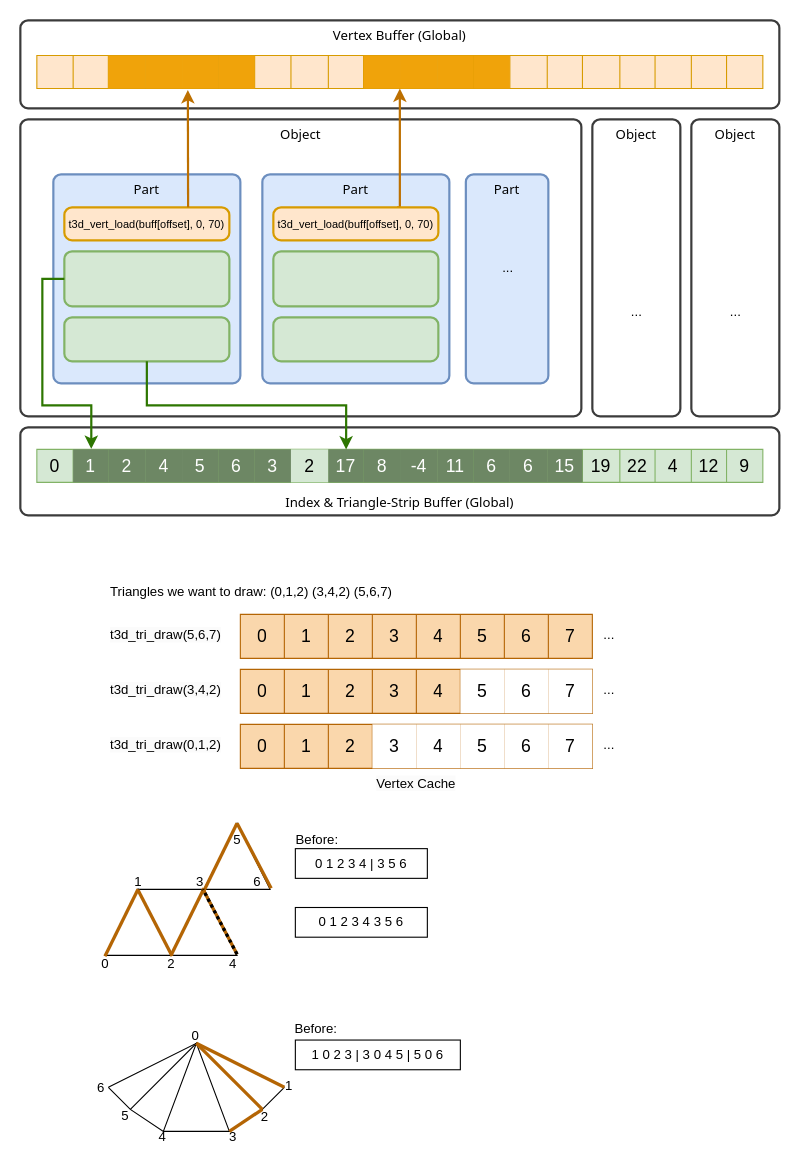
This 799x1172 diagram has some shape labels left out. The shapes that lost their labels are listed below. From the top down, each one's centre as x and y in pixels, then its label:
the point at 146,278: t3d_tri_draw(1,2,4) t3d_tri_draw(5,6,3) ...
the point at 355,278: t3d_tri_draw(0,1,2) t3d_tri_draw(4,5,6) ...
the point at 146,339: t3d_tri_draw_strip(indices[x], 7) ...
the point at 355,339: t3d_tri_draw_strip (indices[x], 12) ...
